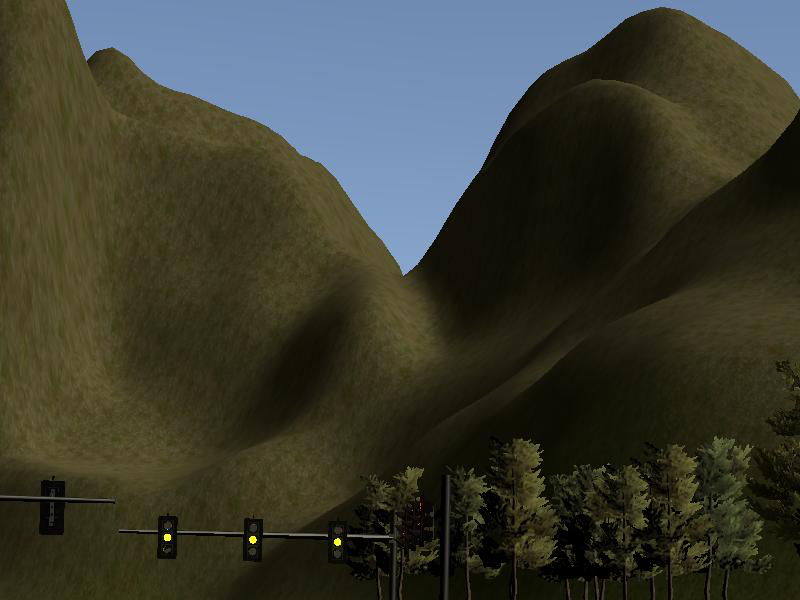yellow: (329, 521, 348, 566), (244, 517, 262, 562), (159, 515, 177, 559)
